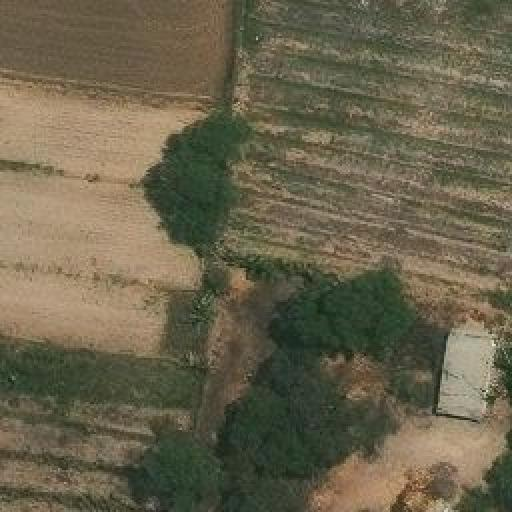manzanas: (431, 325, 500, 428)
